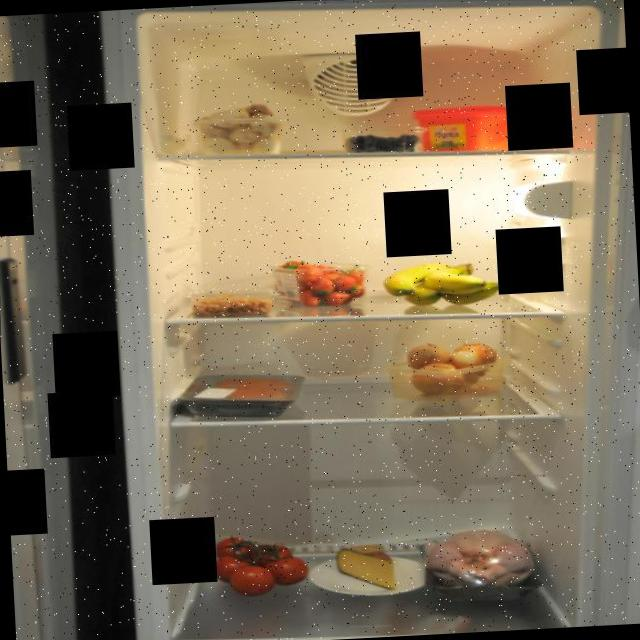Carne pollo: (414, 523, 552, 605)
Carne vacuno: (200, 372, 286, 406)
Cebolla: (399, 336, 502, 399)
Champiñones: (186, 97, 296, 161)
Gambas/Langostinos: (191, 287, 272, 321)
Mantequilla: (408, 98, 536, 156)
Plátano: (382, 256, 506, 314)
Queso: (333, 538, 402, 596)
Tomate: (208, 528, 316, 602)
